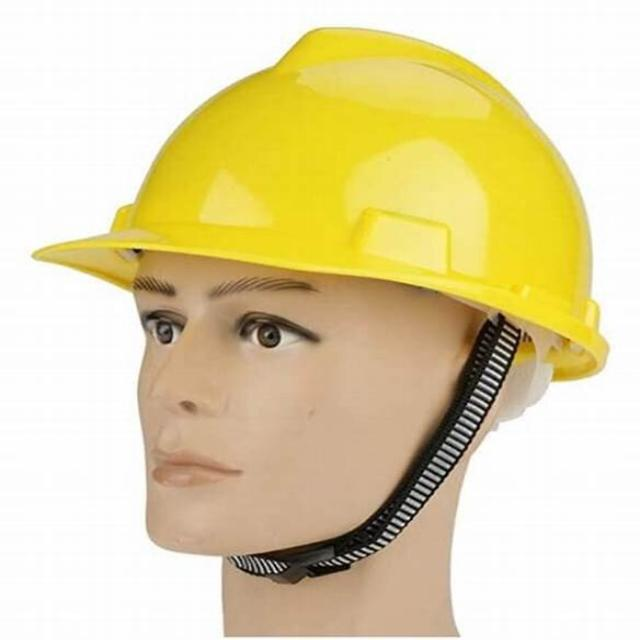illegal_helmet: (24, 11, 625, 598)
